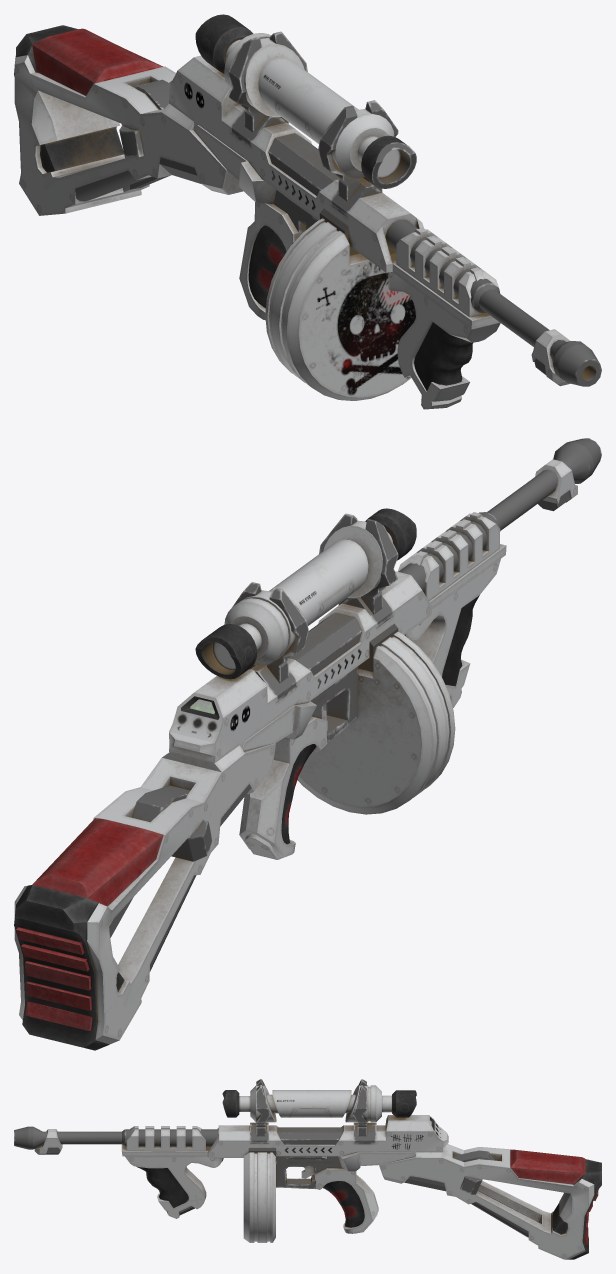
The model's file is Tommygun_sketchfab.fbx.
The picture shows the model from 3 angles, top to bottom: view 1: azimuth 30°, elevation 25°; view 2: azimuth 150°, elevation 25°; view 3: azimuth 270°, elevation 25°; orthographic projection. The views are drawn at different scales.
Parts seen in each view (by area): view 1: Tommy_gun; view 2: Tommy_gun; view 3: Tommy_gun.
Part boxes in pixels (x1,y1,x2,y2): Tommy_gun: (14, 14, 601, 409); Tommy_gun: (14, 438, 601, 1050); Tommy_gun: (14, 1079, 601, 1259).
Bounding box in the file's own units: 49.1 × 87.55 × 275.
